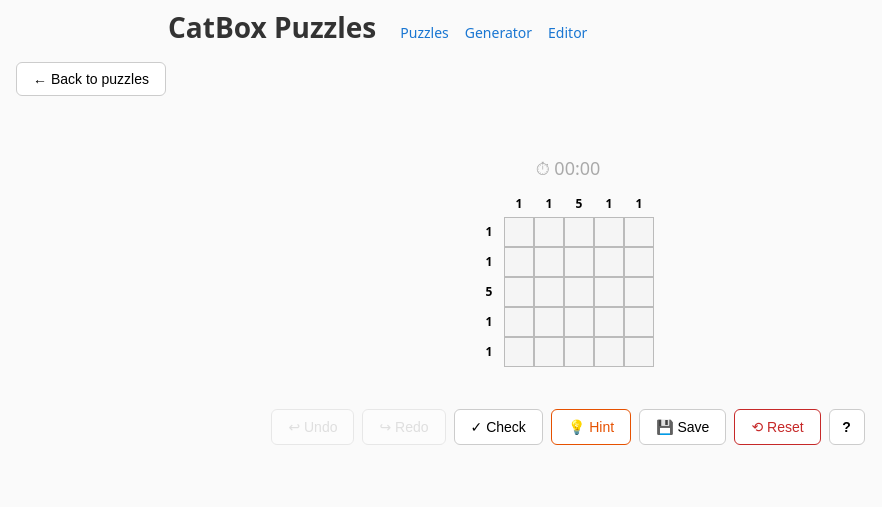
Test case: GamePage › hint button shows explanation panel
Click the button "💡 Hint" at (591, 427), box [551,409,631,445]
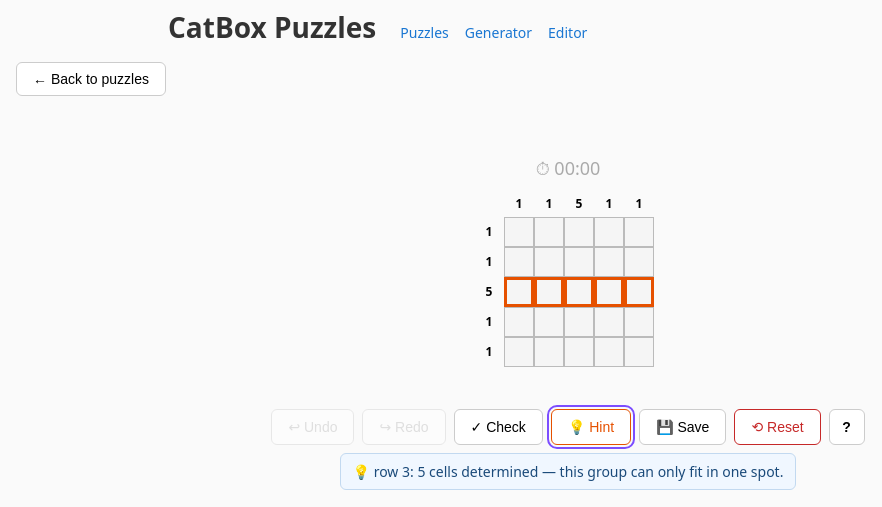
Expected: the text "💡 row 3: 5 cells determined — this group can only fit in one spot." is shown, [340,453,796,490]
